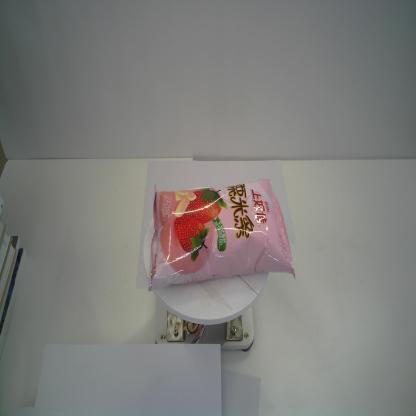Puffed Food: (144, 177, 297, 294)
